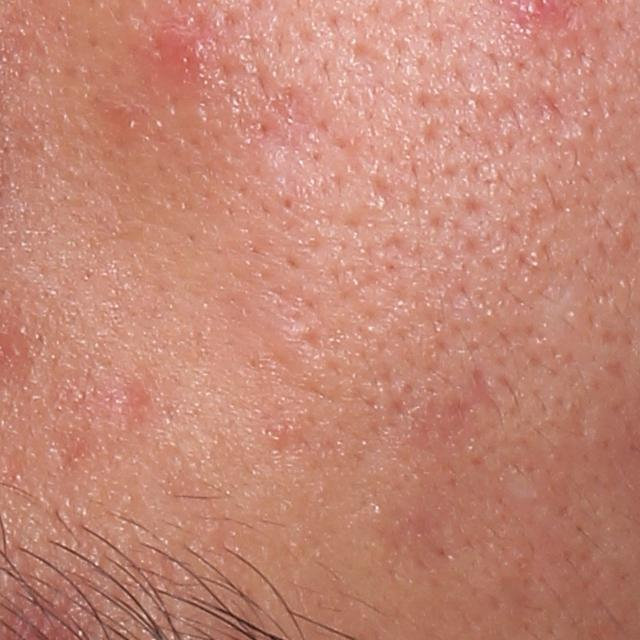atrophic_scar: (255, 85, 325, 194), (419, 367, 507, 443), (356, 400, 415, 482), (528, 276, 593, 344), (274, 290, 327, 340), (98, 101, 154, 141)
papule: (151, 20, 214, 85), (93, 367, 154, 432)
